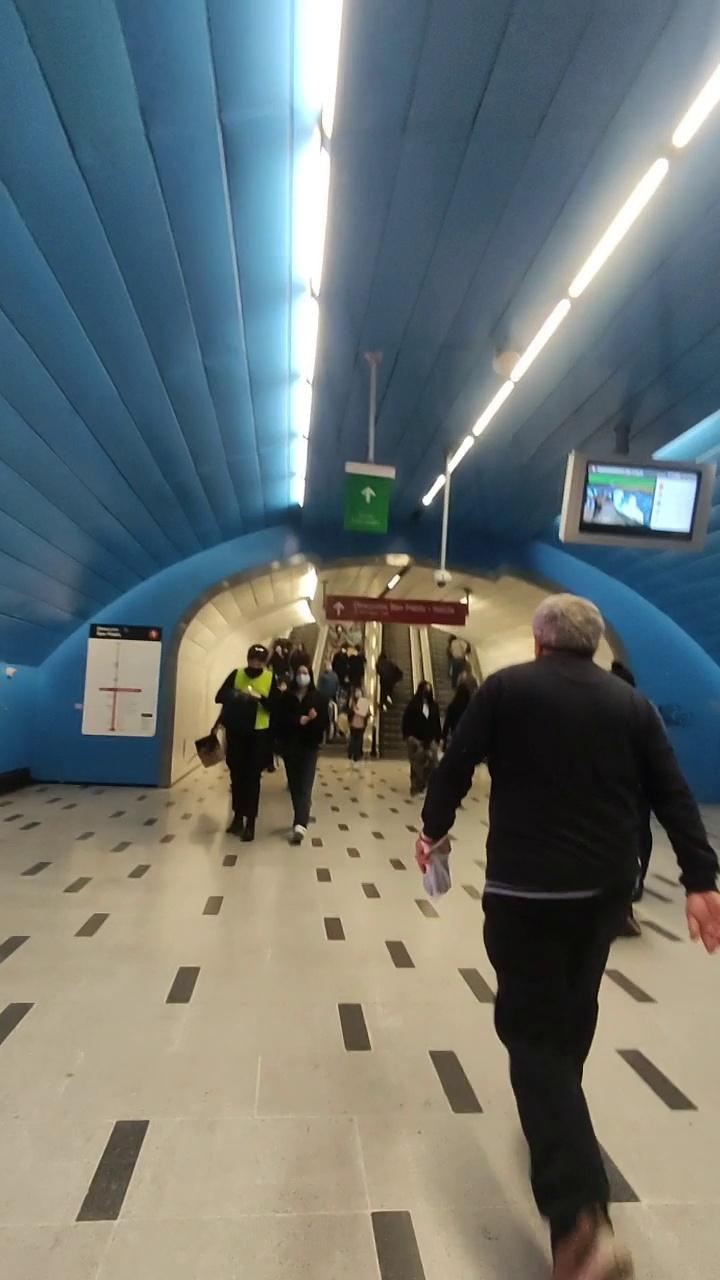up arrow: (327, 598, 347, 620)
